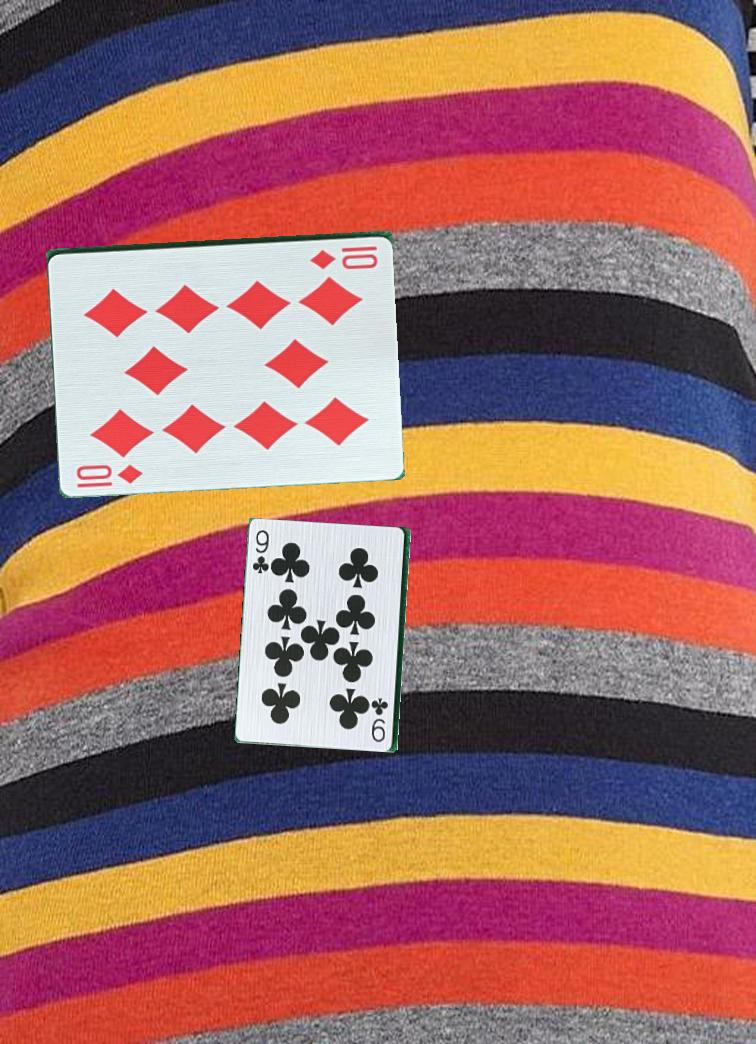9c: (249, 527, 272, 581), (372, 694, 391, 745)
td: (299, 243, 379, 272), (72, 461, 145, 488)
